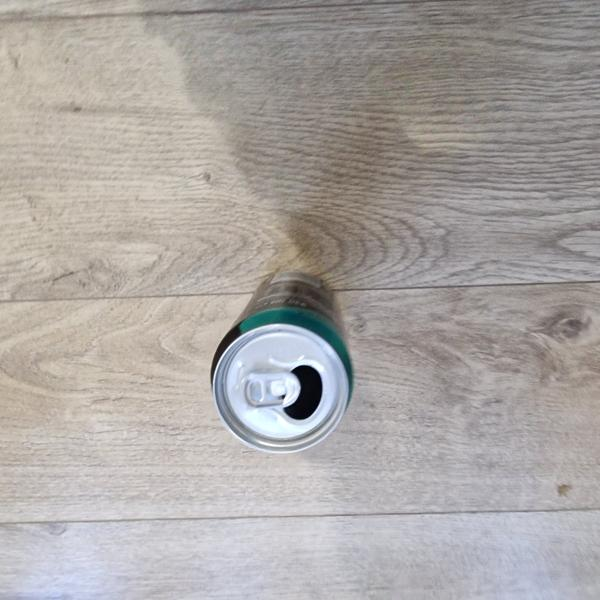can: (208, 267, 357, 458)
